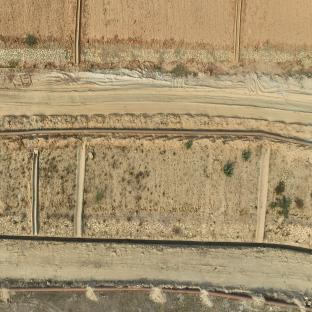rock_toe: (85, 216, 258, 244), (84, 47, 231, 64), (263, 217, 312, 246), (240, 50, 311, 65), (0, 48, 68, 62), (0, 215, 30, 235), (39, 220, 74, 236)
slope_drain: (255, 146, 270, 243), (74, 142, 85, 237), (31, 149, 39, 235), (233, 0, 242, 63), (74, 0, 82, 64)
toe_drain: (0, 235, 312, 253)
